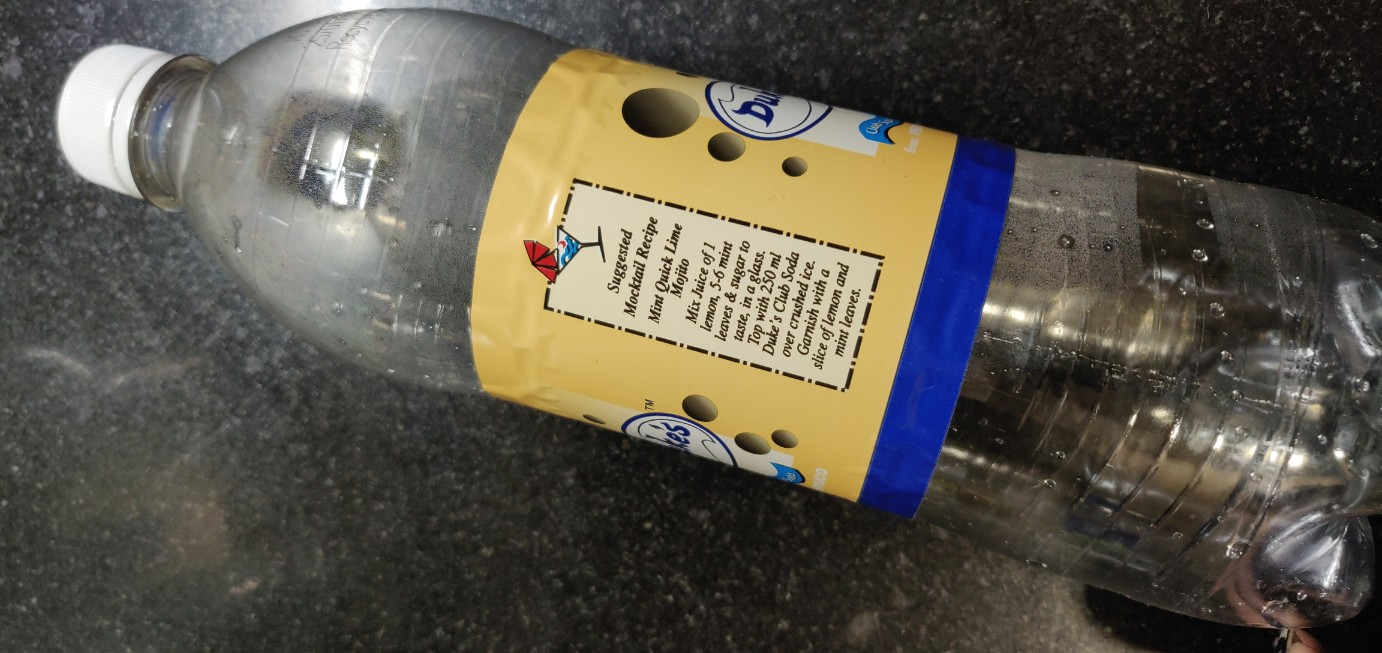Electronics: (43, 4, 1379, 647)
